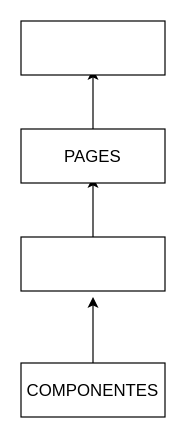
Some shapes in this 186 by 448 pixel diagram are drawn without their labels. The centre of each missing label's shape, as x and y in pixels:
"CONTAINER" goes at (x=92, y=263).
"USER" goes at (x=92, y=47).
